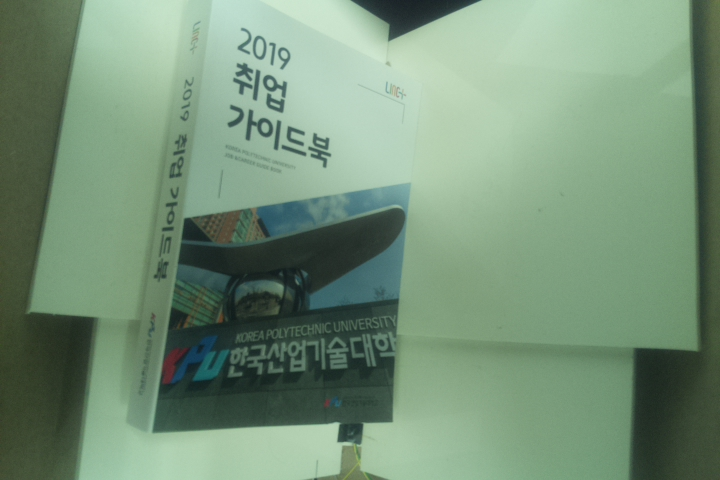book: (116, 1, 427, 436)
